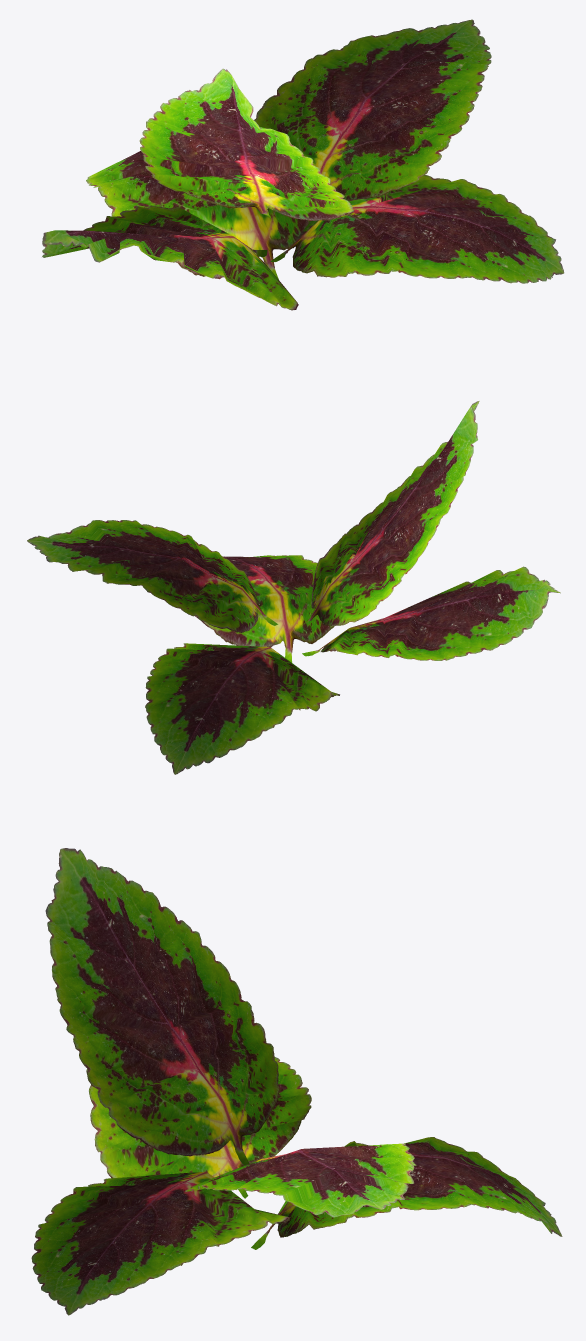
The model's file is Planta1.fbx.
3 renders of one model, top to bottom at view 1: azimuth 30°, elevation 25°; view 2: azimuth 150°, elevation 25°; view 3: azimuth 270°, elevation 25°, orthographic. The views are drawn at different scales.
Visible parts, largest first — view 1: Plantita_Mamalona19; view 2: Plantita_Mamalona19; view 3: Plantita_Mamalona19.
Part boxes in pixels (bbox=[...]): Plantita_Mamalona19: bbox=[42, 19, 564, 310]; Plantita_Mamalona19: bbox=[27, 401, 560, 774]; Plantita_Mamalona19: bbox=[31, 848, 562, 1315].
Size of the model in its own units: 158 by 104 by 126.
